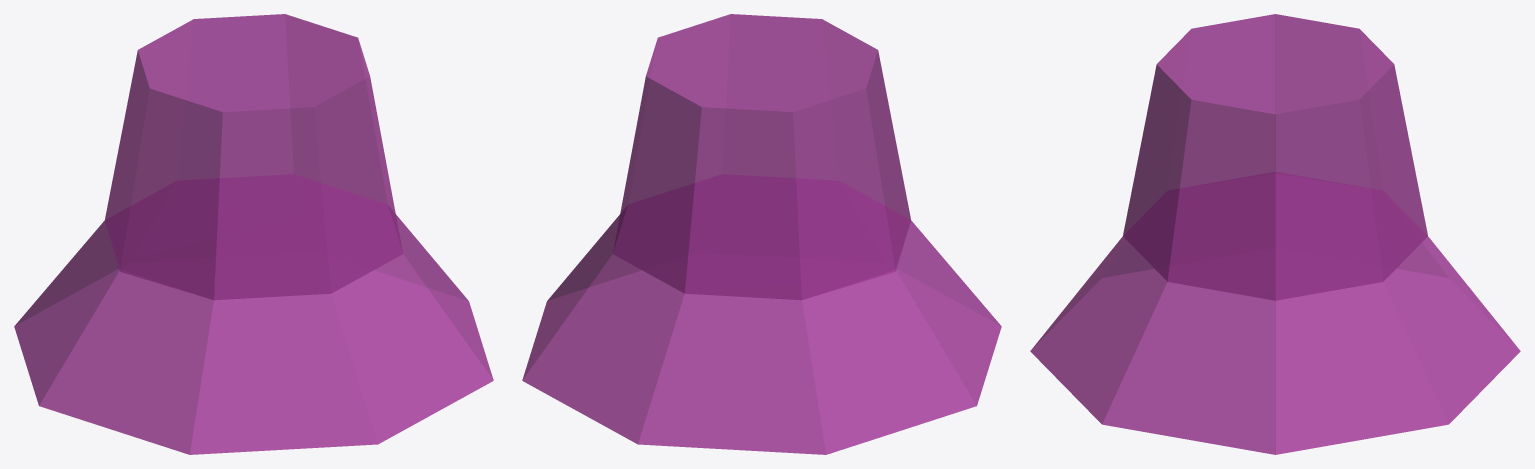
Rendered from SM_Prop_Bell_01_Shell_01_Collision.fbx.
3 views of the same model, side by side, from view 1: azimuth 30°, elevation 25°; view 2: azimuth 150°, elevation 25°; view 3: azimuth 270°, elevation 25° (orthographic).
Visible parts, largest first — view 1: SM_Prop_Bell_01_Shell_01_Collision; view 2: SM_Prop_Bell_01_Shell_01_Collision; view 3: SM_Prop_Bell_01_Shell_01_Collision.
Part boxes in pixels (x1,y1,x2,y2): SM_Prop_Bell_01_Shell_01_Collision: (14,14,493,454); SM_Prop_Bell_01_Shell_01_Collision: (522,14,1001,454); SM_Prop_Bell_01_Shell_01_Collision: (1030,14,1520,454).
Size of the model in its own units: 134 by 86.49 by 134.
